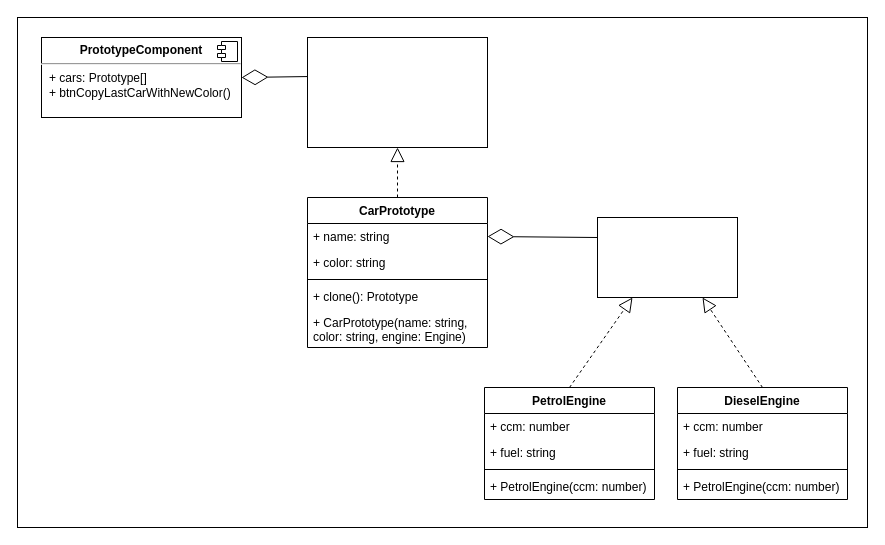
This 885x545 diagram has some shape labels left out. Each missing label, with the centre of its shape:
"<<Interface>> Engine + ccm: number + fuel: string" belongs at (667,257).
"<<Interface>> Prototype + name: string + color: string + clone(): Prototype" belongs at (397,92).
